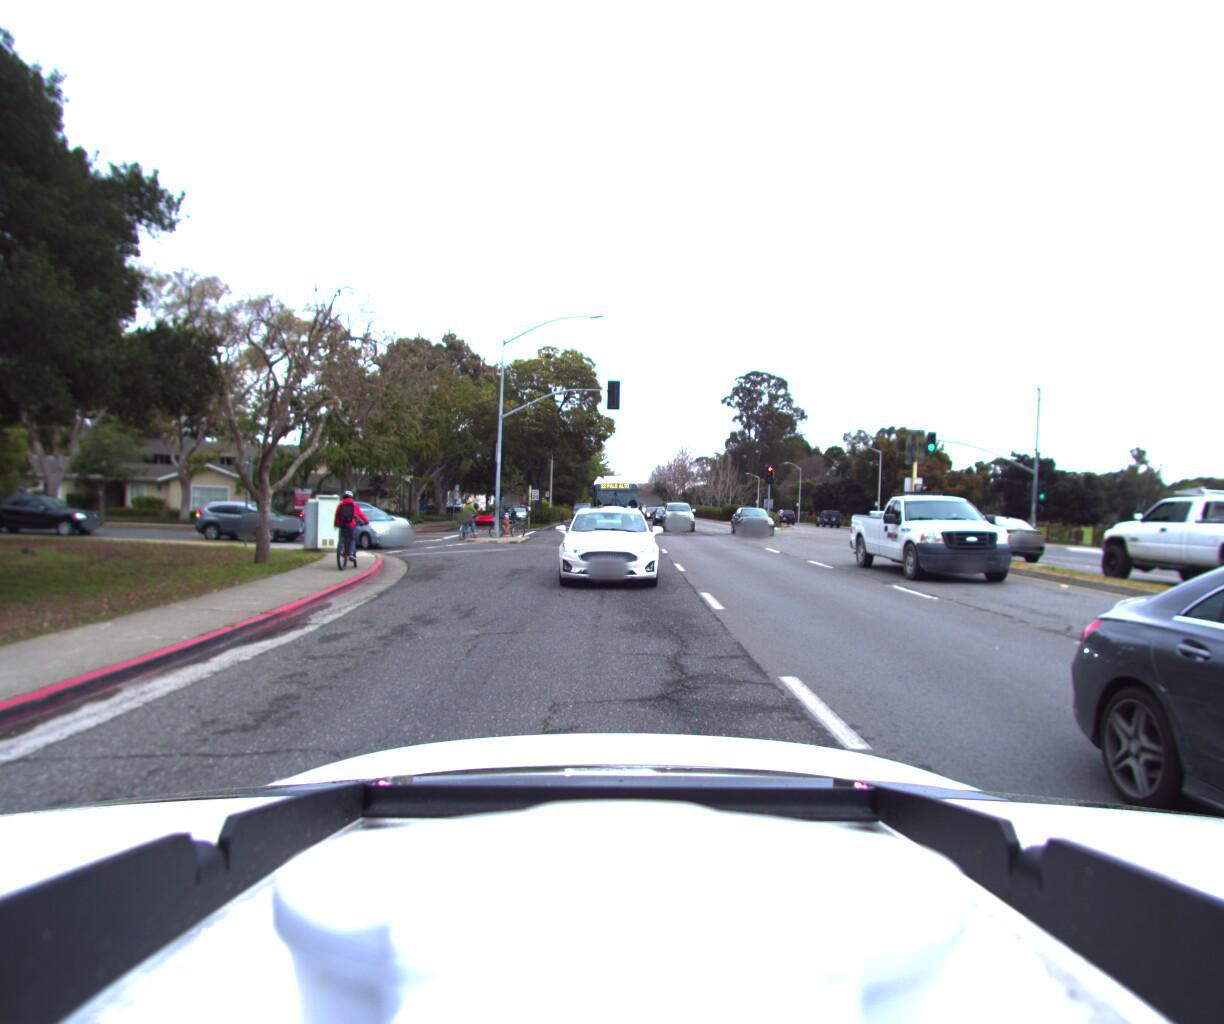bicycle: (310, 488, 369, 577), (447, 497, 490, 543), (482, 501, 526, 541)
car: (854, 478, 1056, 600), (1081, 479, 1224, 610), (1084, 479, 1224, 610), (557, 504, 669, 596), (183, 500, 313, 547), (299, 504, 422, 552), (296, 497, 414, 543), (0, 492, 98, 543), (730, 506, 777, 537), (660, 499, 695, 533), (0, 496, 20, 531), (470, 509, 503, 527)
other_vehicle: (586, 475, 641, 531)
